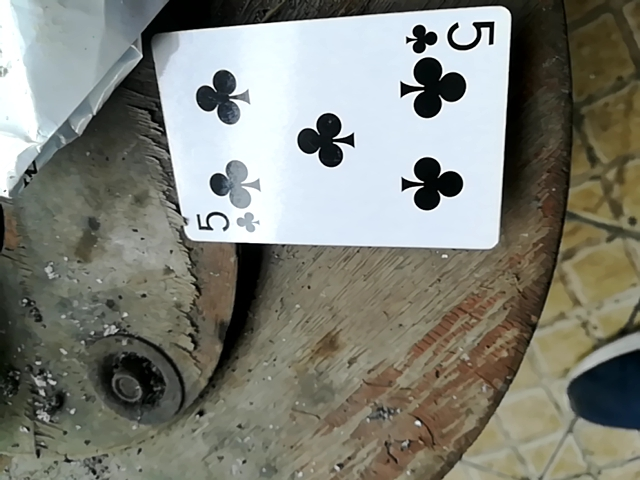mh 5: (146, 3, 500, 252)
